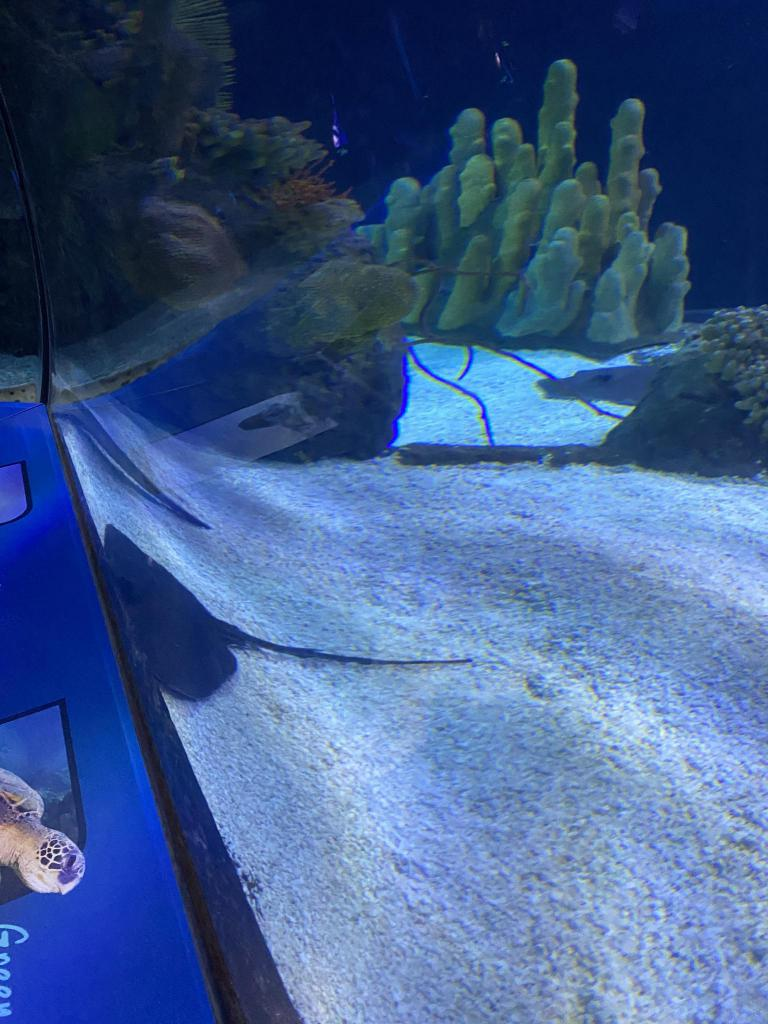stingray: (102, 522, 237, 704), (534, 358, 670, 408)
